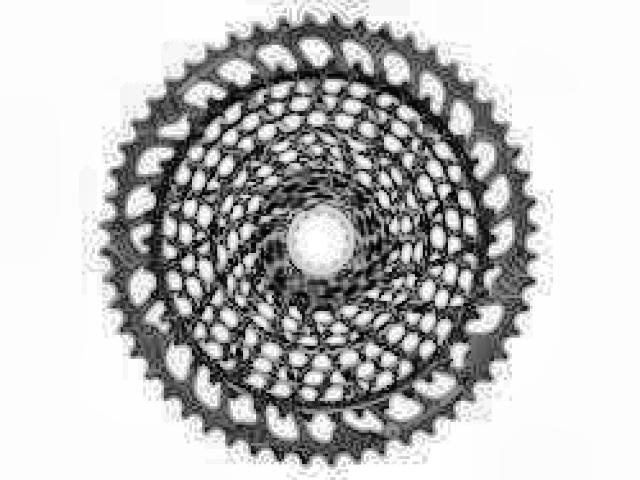cassette: (100, 5, 538, 466)
